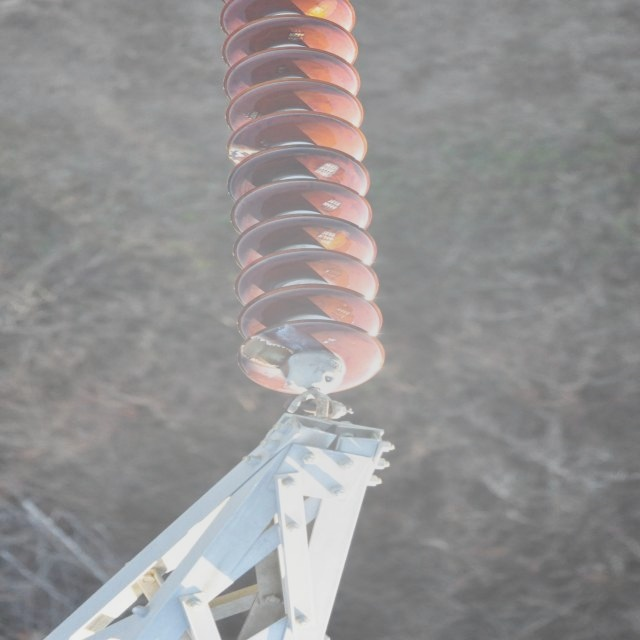insulator: (208, 1, 388, 396)
